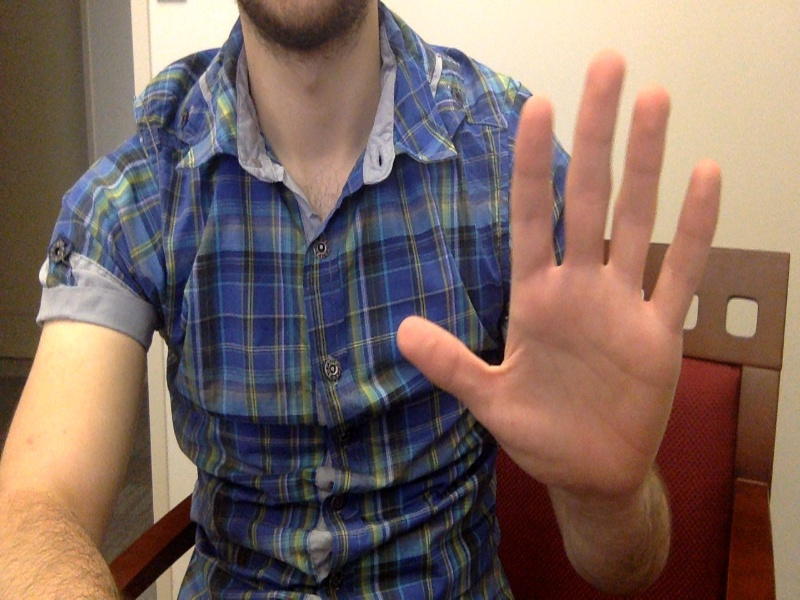5-hand: (398, 51, 723, 494)
